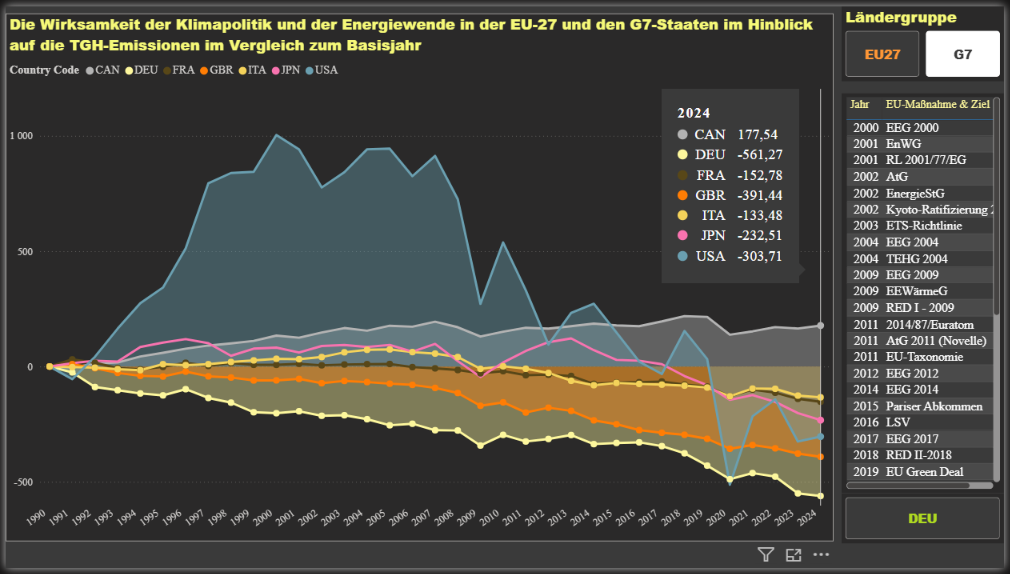

What the dashboard file says about the page in this screenshot:
{"tool":"powerbi","page":{"name":"Vergleich zu Basis","canvas":[1280,720],"ordinal":1},"visuals":[{"type":"areaChart","title":"Die Wirksamkeit der Klimapolitik und der Energiewende in der EU-27 und den G7-Staaten im Hinblick auf die TGH-Emissionen im Vergleich zum Basisjahr","fields":{"Category":["dim_year.Jahr"],"Y":["select","fact_GHG.Total THG"],"Series":["dim_country.Country Code"]},"box":[0,8.4,1061.7,676.8],"z":0},{"type":"advancedSlicerVisual","title":"Ländergruppe","fields":{"Values":["dim_group.Group_Name"]},"box":[1072,0,208,96],"z":1000},{"type":"tableEx","fields":{"Values":["E-Maßnahme.Jahr","E-Maßnahme.EU-Maßnahme & Ziel"]},"box":[1072,112,208,512],"z":2000},{"type":"advancedSlicerVisual","fields":{"Values":["E-Maßnahme.Ebene"]},"box":[1072,624,208,64],"z":3000}]}

Visuals, with their boxes in screenshot pixels (x1, y1, x2, y2), scaled from the page's 1280x720 canvas onto the 1010x574 screenshot:
"Die Wirksamkeit der Klimapolitik und der Energiewende in der EU-27 und den G7-Staaten im Hinblick auf die TGH-Emissionen im Vergleich zum Basisjahr" areaChart: select_region(0, 7, 838, 546)
"Ländergruppe" advancedSlicerVisual: select_region(846, 0, 1009, 77)
tableEx - E-Maßnahme.Jahr x E-Maßnahme.EU-Maßnahme & Ziel: select_region(846, 89, 1009, 497)
advancedSlicerVisual - E-Maßnahme.Ebene: select_region(846, 497, 1009, 548)
